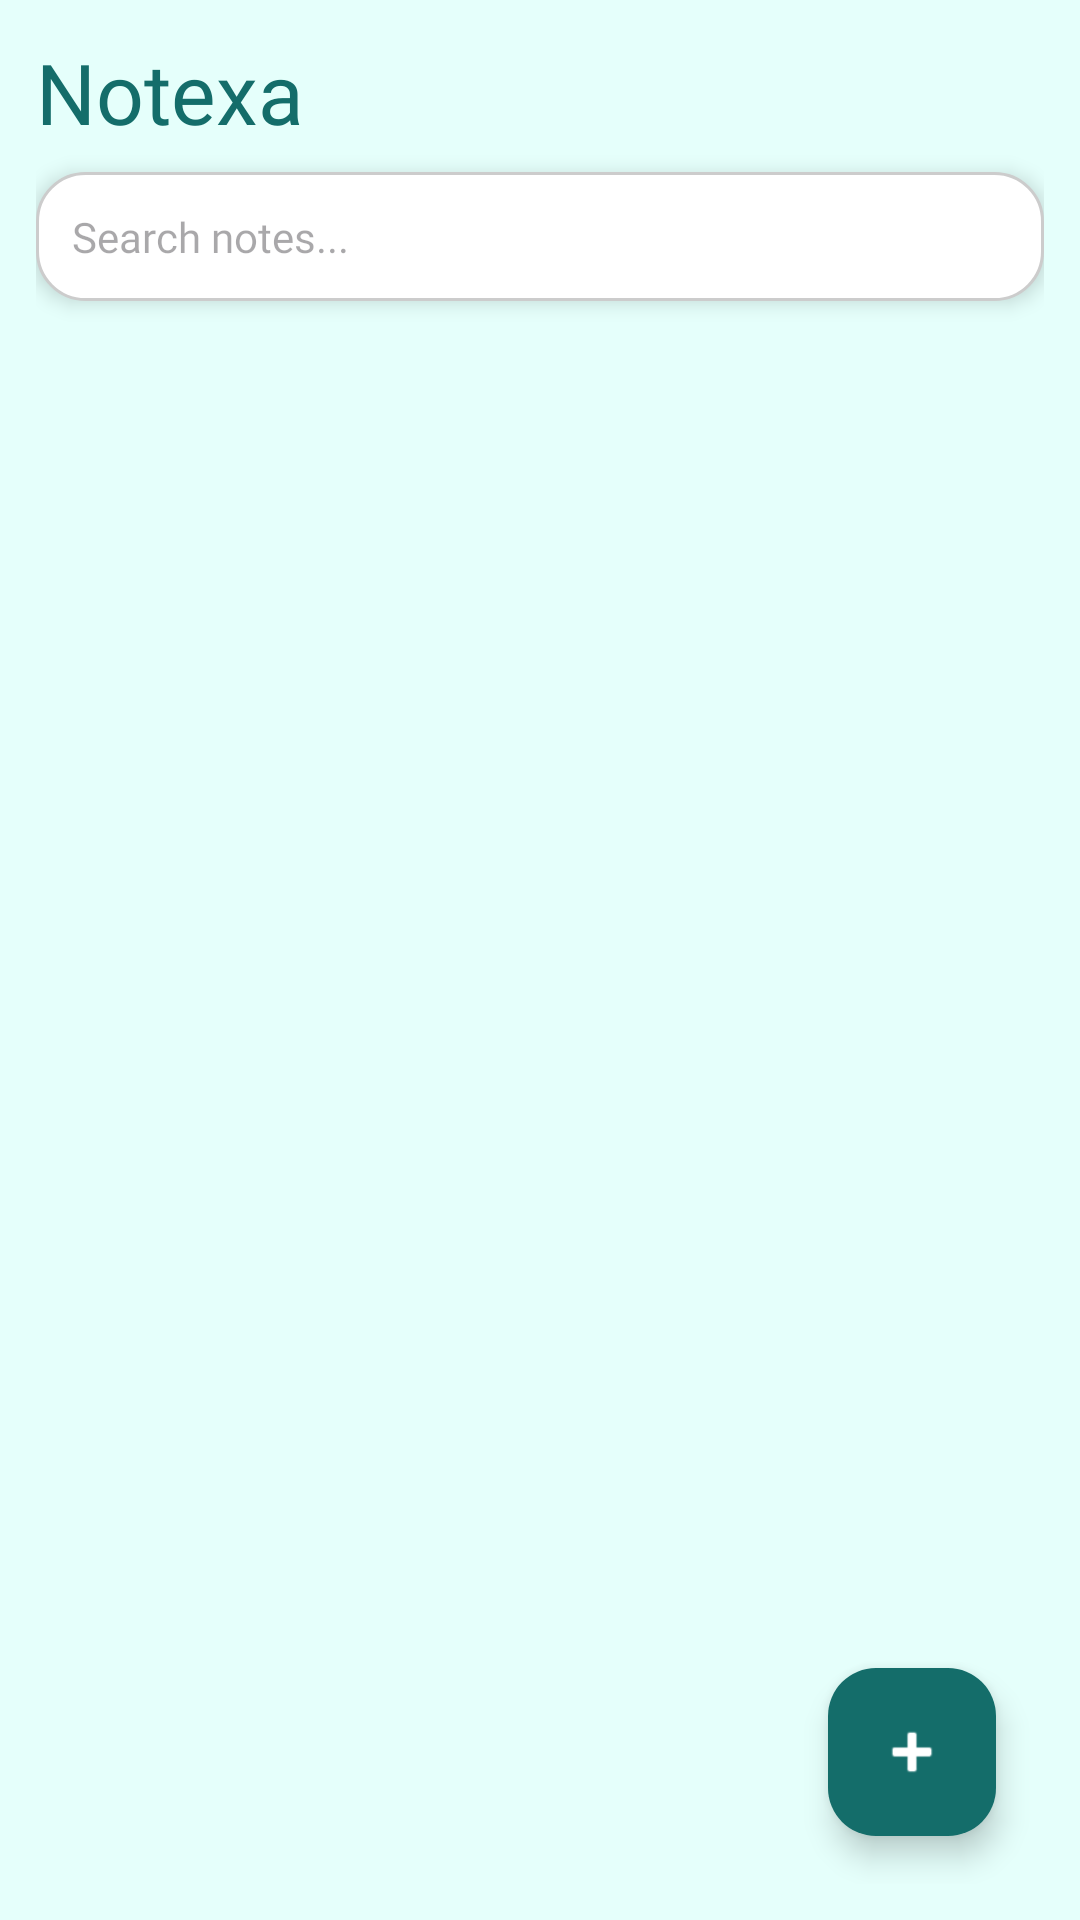

Icon bounding boxes for this 1080×1920 phone screenshot, format (x1, y1, x2, y2):
Add Note: (828, 1668, 996, 1836)
